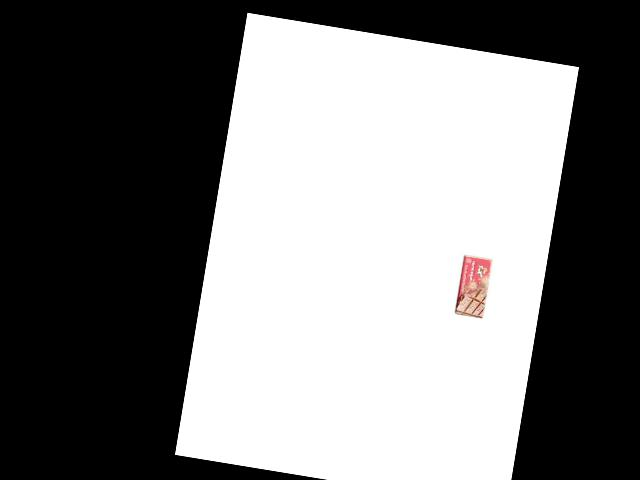chocolate: (453, 253, 494, 320)
